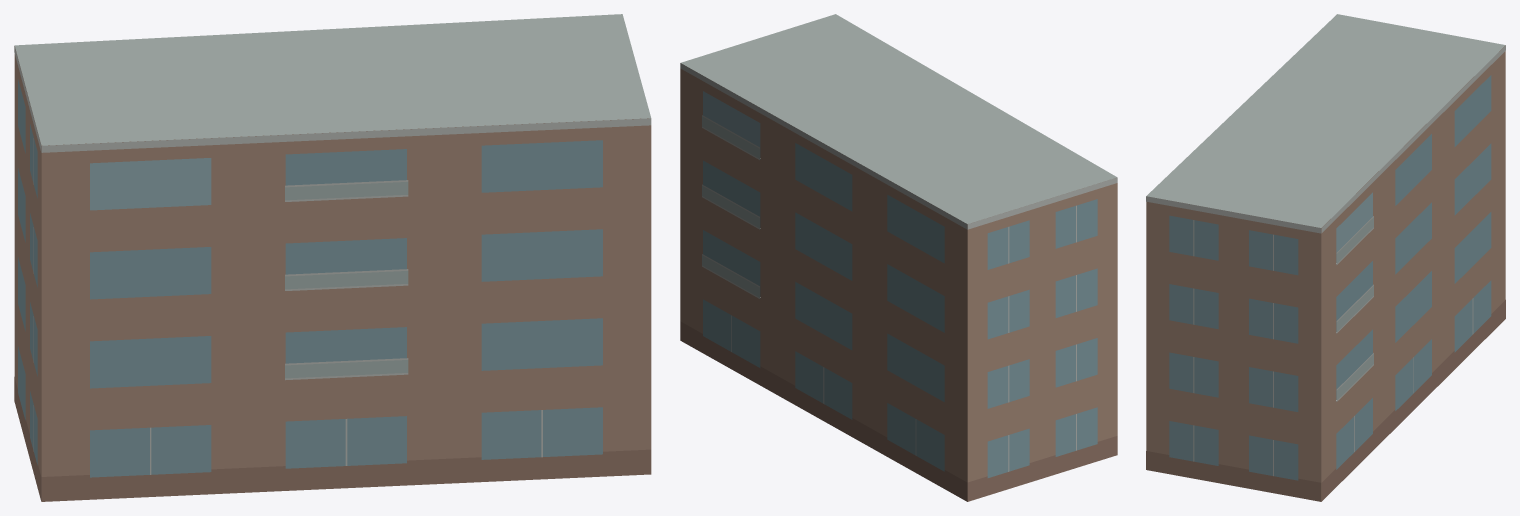
The model's file is survey-upis-32948490.glb.
3 renders of one model, left to right at view 1: azimuth 30°, elevation 25°; view 2: azimuth 150°, elevation 25°; view 3: azimuth 270°, elevation 25°, orthographic. The views are drawn at different scales.
Parts seen in each view (by area): view 1: survey-upis-32948490.tmp; view 2: survey-upis-32948490.tmp; view 3: survey-upis-32948490.tmp.
Part boxes in pixels (x1,y1,x2,y2): survey-upis-32948490.tmp: [14, 14, 651, 501]; survey-upis-32948490.tmp: [680, 14, 1117, 501]; survey-upis-32948490.tmp: [1146, 14, 1505, 501].
Bounding box in the file's own units: 20.47 × 12.2 × 14.53.
